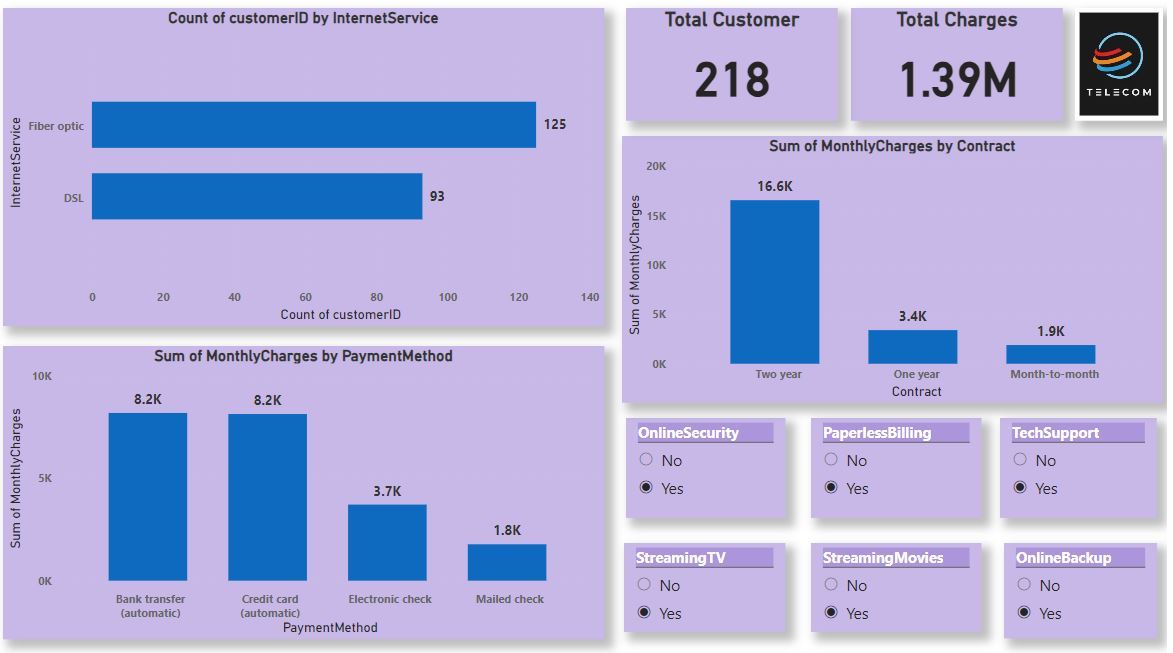

Layout of this report page (visuals, bound fields, positions):
{"tool":"powerbi","page":{"name":"Customer Profile","canvas":[1280,720],"ordinal":0},"visuals":[{"type":"card","title":"Total Charges","fields":{"Values":["Sum(final_data.TotalCharges)"]},"box":[935.7,12.9,231.4,122.9],"z":0},{"type":"slicer","fields":{"Values":["final_data.gender"]},"box":[370,252.9,170,104.3],"z":1000},{"type":"barChart","fields":{"Category":["final_data.InternetService"],"Y":["CountNonNull(final_data.customerID)"]},"box":[11.4,12.9,655.7,347.1],"z":2000},{"type":"slicer","fields":{"Values":["final_data.PaperlessBilling"]},"box":[892.9,460,185.7,108.6],"z":3000},{"type":"slicer","fields":{"Values":["final_data.OnlineSecurity"]},"box":[690,460,174.3,108.6],"z":4000},{"type":"slicer","fields":{"Values":["final_data.OnlineBackup"]},"box":[1102.9,597.1,167.1,104.3],"z":5000},{"type":"slicer","fields":{"Values":["final_data.StreamingMovies"]},"box":[892.9,597.1,185.7,97.1],"z":6000},{"type":"slicer","fields":{"Values":["final_data.StreamingTV"]},"box":[688.6,597.1,175.7,97.1],"z":7000},{"type":"slicer","fields":{"Values":["final_data.TechSupport"]},"box":[1098.6,460,171.4,108.6],"z":8000},{"type":"columnChart","fields":{"Category":["final_data.PaymentMethod"],"Y":["Sum(final_data.MonthlyCharges)"]},"box":[11.4,381.4,655.7,320],"z":9000},{"type":"columnChart","fields":{"Category":["final_data.Contract"],"Y":["Sum(final_data.MonthlyCharges)"]},"box":[685.7,152.9,590,291.4],"z":10000},{"type":"card","title":"Total Customer","fields":{"Values":["Count(final_data.customerID)"]},"box":[690,12.9,231.4,122.9],"z":11000},{"type":"image","box":[1180,12.9,95.7,122.9],"z":12000}]}

Visuals, with their boxes in screenshot pixels (x1, y1, x2, y2), scaled from the page's 1280x720 canvas onto the 1173x653 screenshot:
"Total Charges" card: 857:12:1070:123
slicer - final_data.gender: 339:229:495:324
barChart - final_data.InternetService x CountNonNull(final_data.customerID): 10:12:611:326
slicer - final_data.PaperlessBilling: 818:417:988:516
slicer - final_data.OnlineSecurity: 632:417:792:516
slicer - final_data.OnlineBackup: 1011:542:1164:636
slicer - final_data.StreamingMovies: 818:542:988:630
slicer - final_data.StreamingTV: 631:542:792:630
slicer - final_data.TechSupport: 1007:417:1164:516
columnChart - final_data.PaymentMethod x Sum(final_data.MonthlyCharges): 10:346:611:636
columnChart - final_data.Contract x Sum(final_data.MonthlyCharges): 628:139:1169:403
"Total Customer" card: 632:12:844:123
image: 1081:12:1169:123
